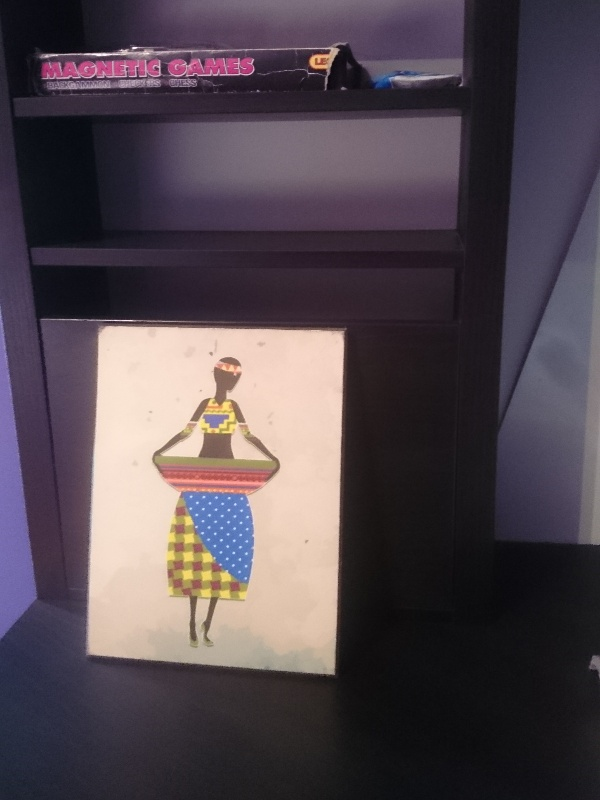my image: (85, 327, 341, 665)
